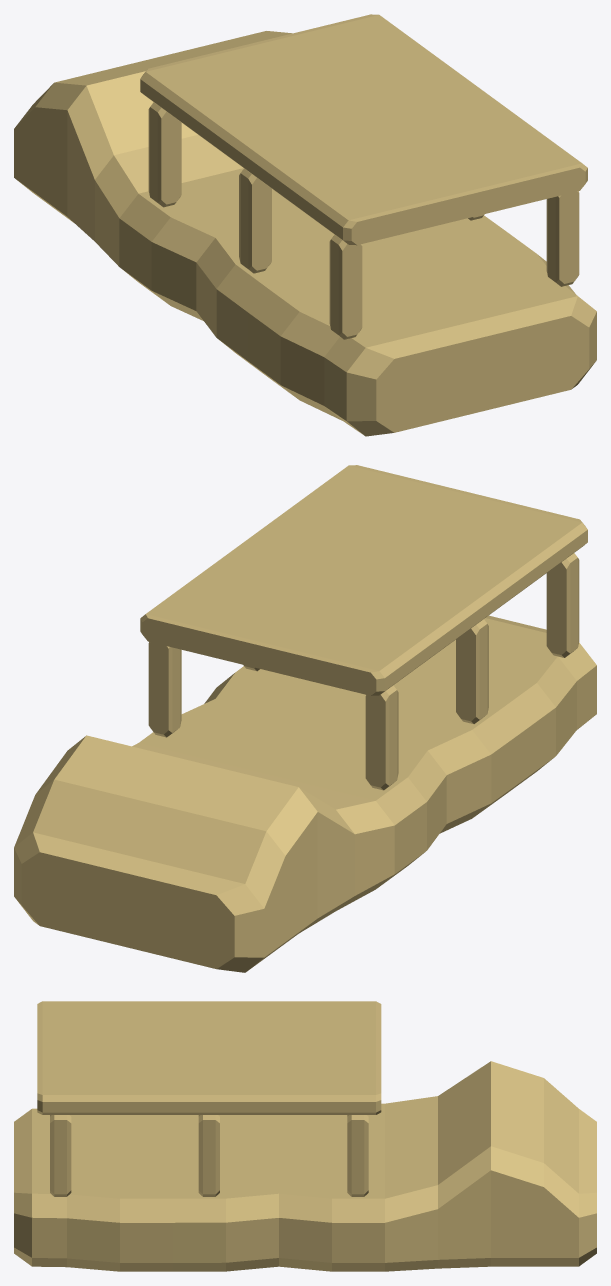
The model's file is tallow_transport_d.glb.
The picture shows the model from 3 angles, top to bottom: view 1: azimuth 30°, elevation 25°; view 2: azimuth 150°, elevation 25°; view 3: azimuth 270°, elevation 25°; orthographic projection. The views are drawn at different scales.
Visible parts, largest first — view 1: tallow_transport_d; view 2: tallow_transport_d; view 3: tallow_transport_d.
Boxes of the visible parts, x1,y1,x2,y2 form: tallow_transport_d: [14, 14, 596, 436]; tallow_transport_d: [14, 465, 596, 972]; tallow_transport_d: [14, 1001, 596, 1271].
Bounding box in the file's own units: 3.9 × 2.9 × 8.7.
